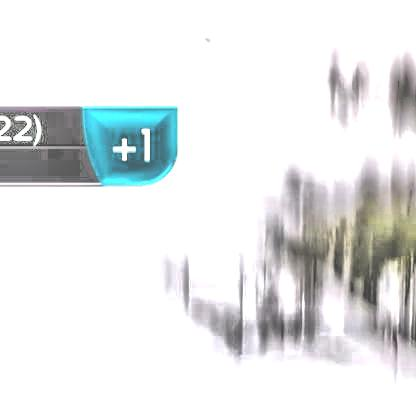golfball: (202, 36, 212, 41)
